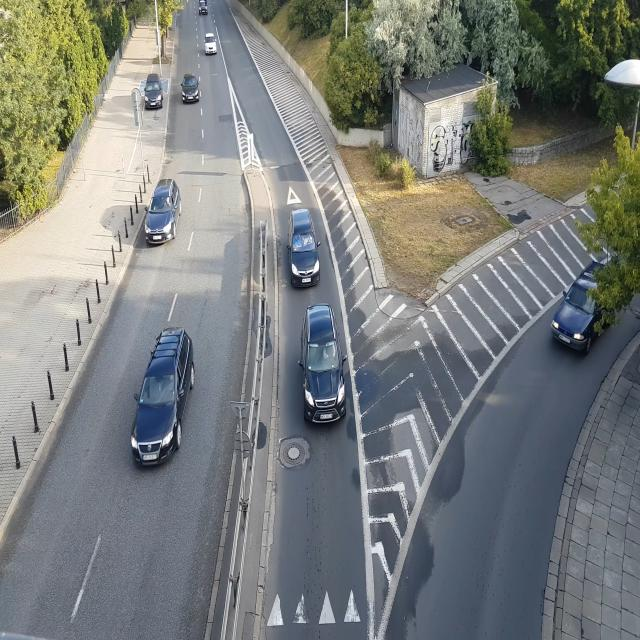car: (131, 315, 195, 470), (298, 297, 348, 434), (549, 253, 608, 362), (142, 164, 182, 254), (286, 202, 323, 292), (141, 70, 165, 113), (180, 68, 203, 112), (200, 27, 218, 59), (197, 0, 210, 18)
